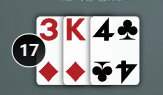3: (35, 16, 63, 43)
4: (89, 15, 117, 43)
k: (63, 16, 91, 43)
